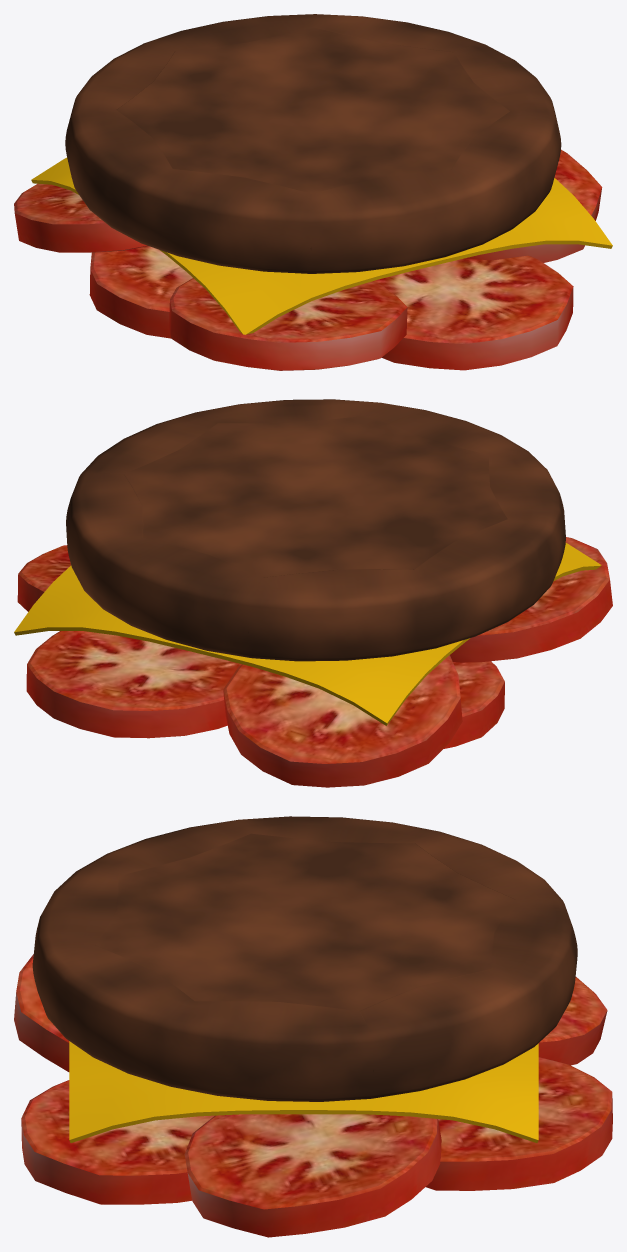
Rendered from cheese-tomato-meat.glb.
The picture shows the model from 3 angles, top to bottom: view 1: azimuth 30°, elevation 25°; view 2: azimuth 150°, elevation 25°; view 3: azimuth 270°, elevation 25°; orthographic projection. The views are drawn at different scales.
Visible parts, largest first — view 1: object 1, pCylinder19_9; view 2: object 1, pCylinder19_9; view 3: object 1, pCylinder19_9.
Boxes of the visible parts, bbox=[...] form: object 1: bbox=[31, 14, 612, 334]; pCylinder19_9: bbox=[14, 149, 602, 370]; object 1: bbox=[14, 399, 601, 725]; pCylinder19_9: bbox=[17, 537, 612, 787]; object 1: bbox=[32, 816, 577, 1142]; pCylinder19_9: bbox=[14, 954, 612, 1237].
Size of the model in its own units: 1.01 by 0.3542 by 0.9781.
4 materials, 3 textured.
